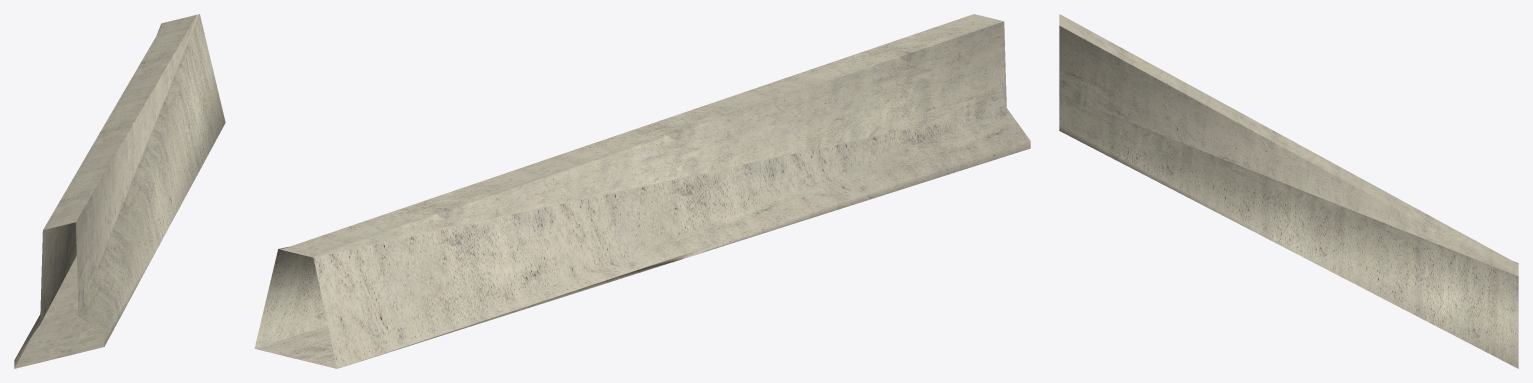
Rendered from GSDBarrier-KRailCapExtendedS.fbx.
The picture shows the model from 3 angles, left to right: view 1: azimuth 30°, elevation 25°; view 2: azimuth 150°, elevation 25°; view 3: azimuth 270°, elevation 25°; orthographic projection. The views are drawn at different scales.
Visible parts, largest first — view 1: KRail5mCapS; view 2: KRail5mCapS; view 3: KRail5mCapS.
Part boxes in pixels (x1,y1,x2,y2): KRail5mCapS: (14, 14, 225, 368); KRail5mCapS: (254, 14, 1030, 368); KRail5mCapS: (1059, 14, 1518, 368).
Size of the model in its own units: 4.81 by 2.14 by 5.
